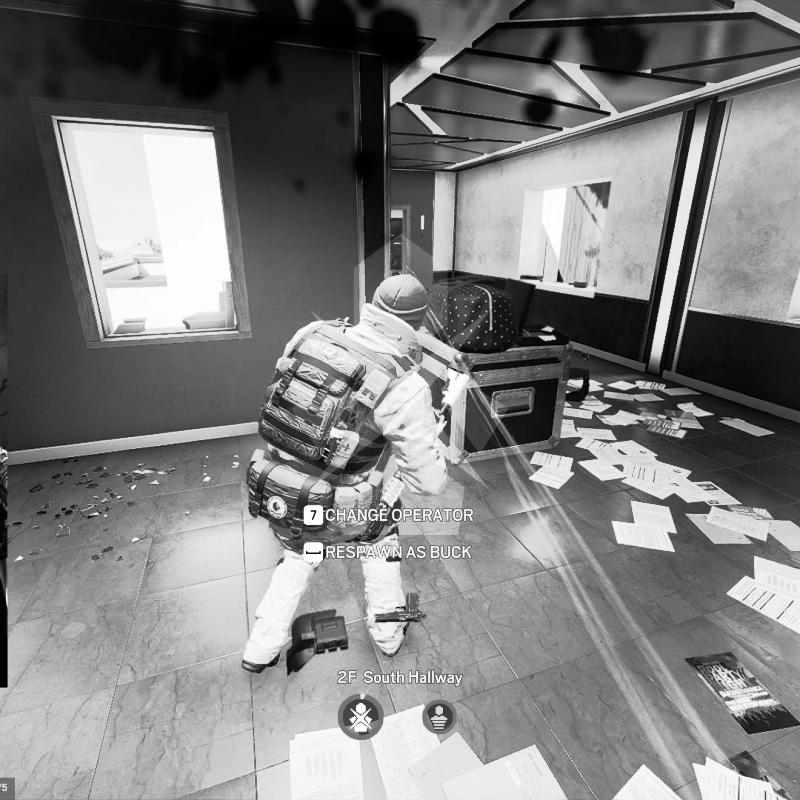Character: (239, 269, 476, 676)
Head: (370, 272, 430, 339)
